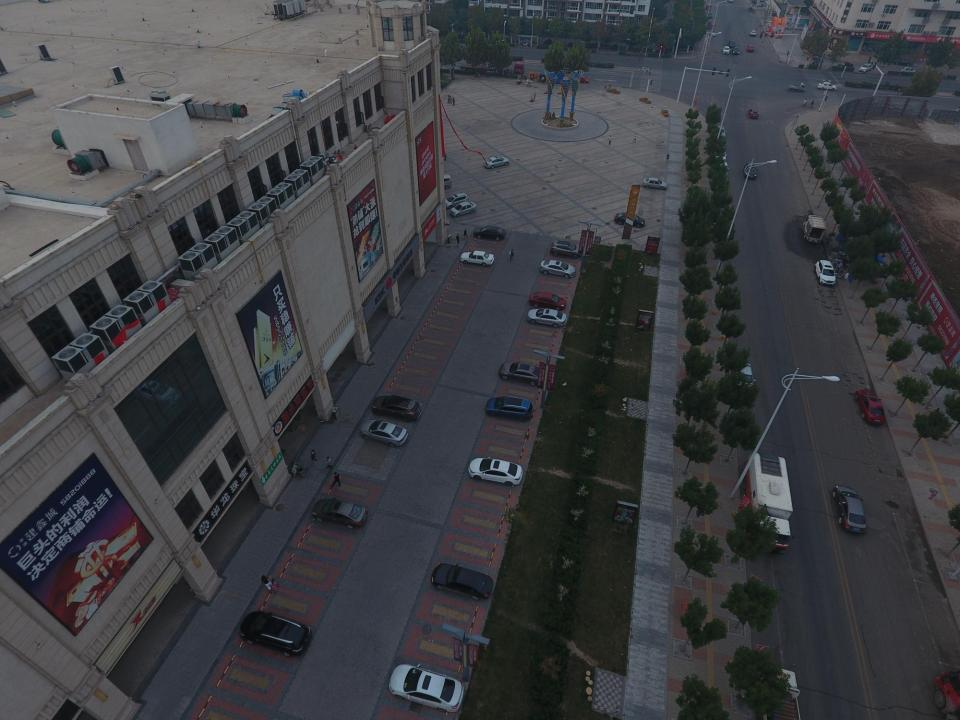car: (388, 664, 464, 712), (239, 610, 313, 656), (431, 563, 494, 601), (832, 485, 868, 535), (312, 497, 368, 529), (467, 456, 523, 487), (371, 395, 422, 423), (360, 419, 409, 447), (484, 395, 534, 422), (854, 389, 887, 426), (498, 362, 544, 386), (734, 361, 756, 399), (526, 308, 567, 328), (539, 259, 576, 278), (528, 292, 567, 310), (813, 260, 838, 286), (549, 240, 582, 258), (459, 250, 495, 266), (614, 211, 646, 228), (473, 225, 506, 241), (442, 192, 470, 210), (449, 201, 478, 218), (482, 155, 510, 169), (641, 177, 668, 190), (743, 162, 759, 180), (717, 160, 730, 176), (817, 81, 837, 91), (715, 148, 728, 162), (571, 74, 589, 84), (900, 66, 918, 76), (858, 63, 874, 73), (747, 108, 760, 120), (715, 125, 726, 138), (837, 62, 854, 70), (732, 46, 741, 55), (722, 45, 730, 55), (709, 27, 717, 37), (746, 44, 755, 52), (728, 39, 737, 47), (749, 29, 757, 37), (706, 11, 714, 19)
truck: (742, 452, 796, 554), (760, 662, 802, 720), (459, 60, 525, 77), (802, 214, 828, 244), (788, 82, 806, 93), (812, 52, 824, 68)
van: (431, 174, 452, 190)
